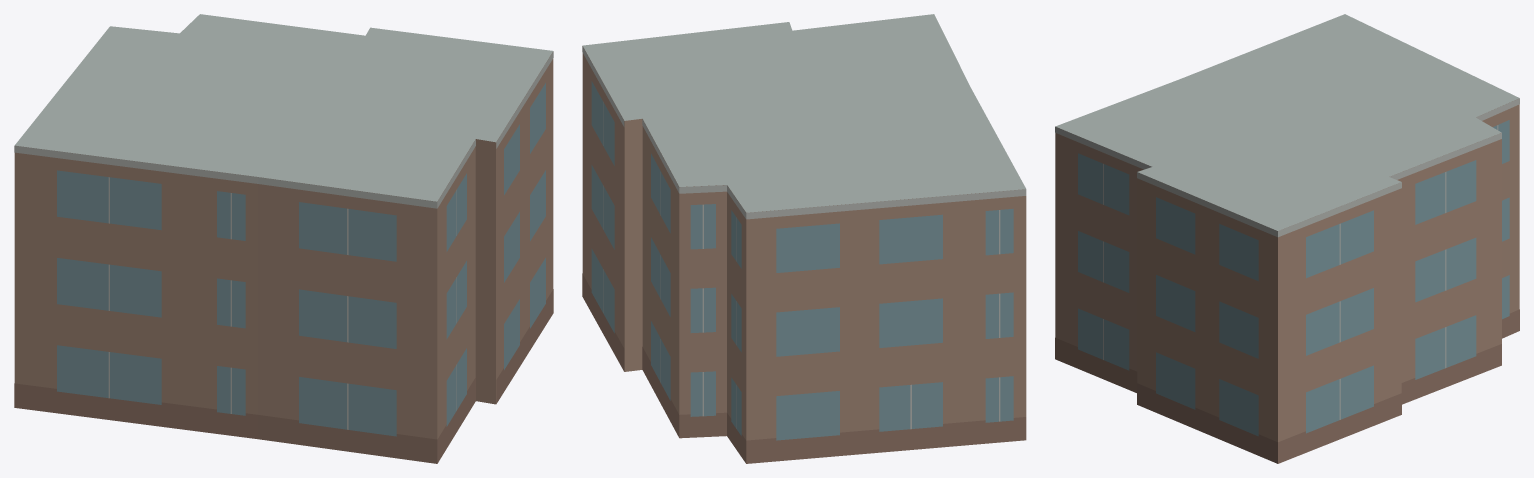
Rendered from survey-upis-32934056.glb.
3 views of the same model, side by side, from view 1: azimuth 30°, elevation 25°; view 2: azimuth 150°, elevation 25°; view 3: azimuth 270°, elevation 25° (orthographic). The views are drawn at different scales.
Visible parts, largest first — view 1: survey-upis-32934056.tmp; view 2: survey-upis-32934056.tmp; view 3: survey-upis-32934056.tmp.
Boxes of the visible parts, x1,y1,x2,y2 form: survey-upis-32934056.tmp: (14,14,553,463); survey-upis-32934056.tmp: (582,14,1026,463); survey-upis-32934056.tmp: (1055,14,1519,463).
Bounding box in the file's own units: 18.31 × 9.15 × 16.56.
